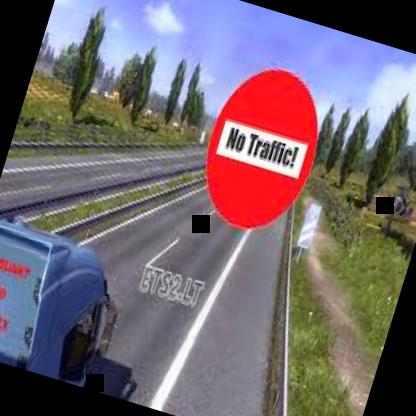car: (0, 185, 150, 392)
